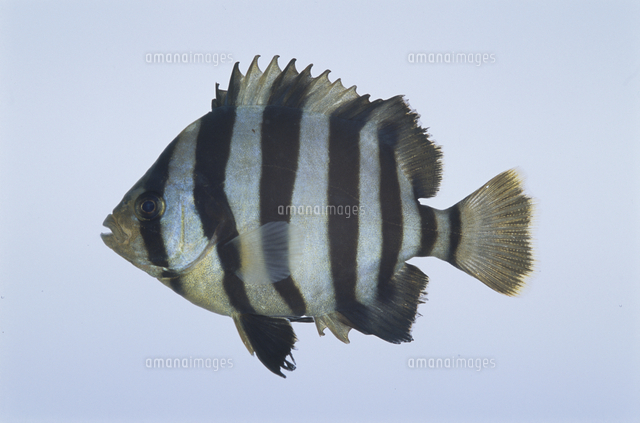azi: (100, 68, 575, 369)
